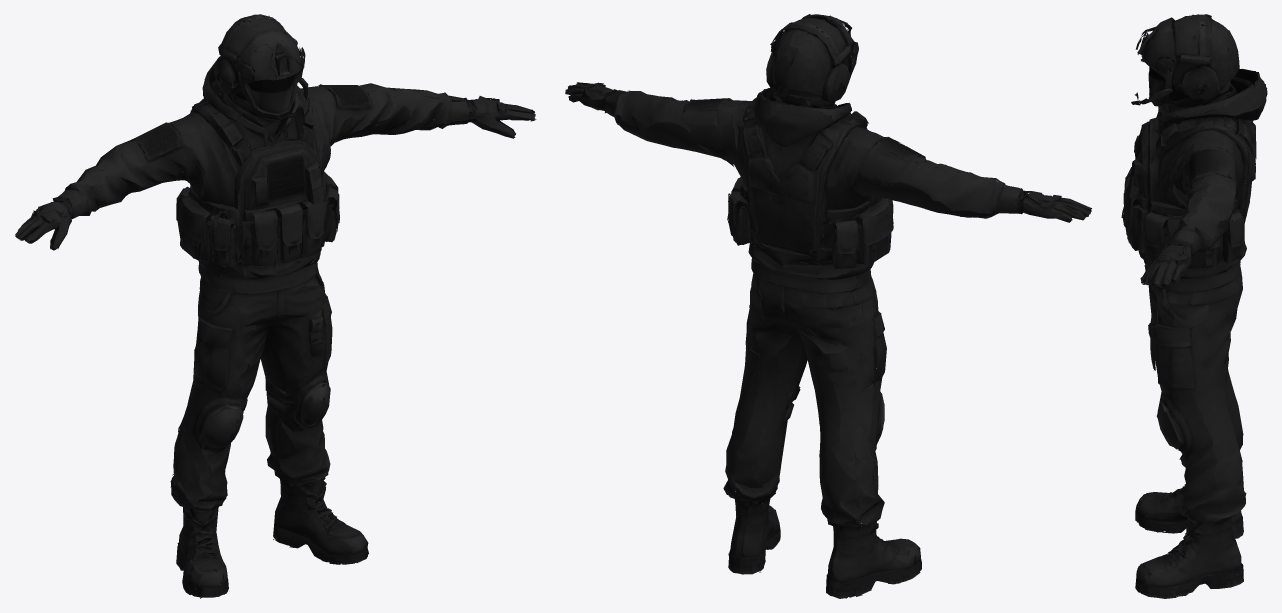
Rendered from Operative1_for_Mixamo.fbx.
The picture shows the model from 3 angles, left to right: view 1: azimuth 30°, elevation 25°; view 2: azimuth 150°, elevation 25°; view 3: azimuth 270°, elevation 25°; orthographic projection.
Visible parts, largest first — view 1: Operative1; view 2: Operative1; view 3: Operative1.
Boxes of the visible parts, x1,y1,x2,y2 form: Operative1: (15, 14, 536, 598); Operative1: (565, 14, 1091, 598); Operative1: (1121, 14, 1267, 598).
Bounding box in the file's own units: 1.8 × 1.8 × 0.4423.
Materials: 1 (1 with a texture image).
